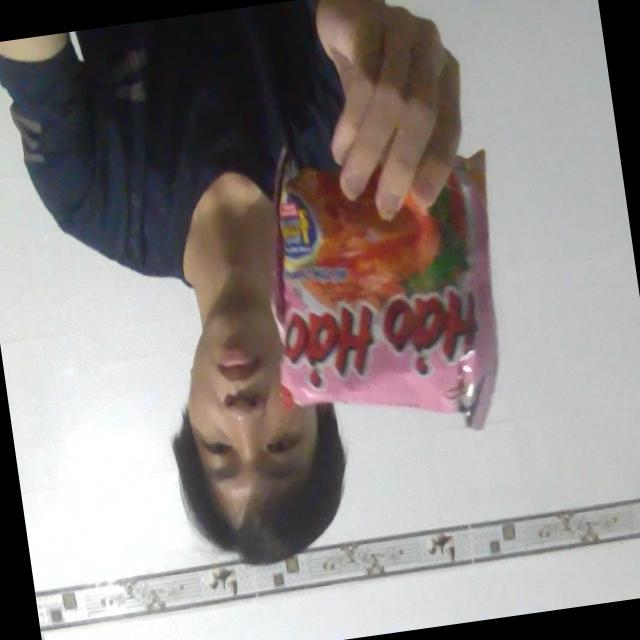mi hao hao: (232, 133, 526, 460)
